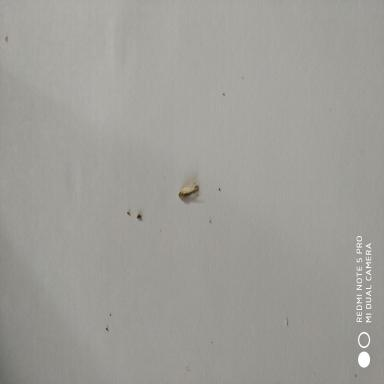pbw: (177, 183, 201, 200)
